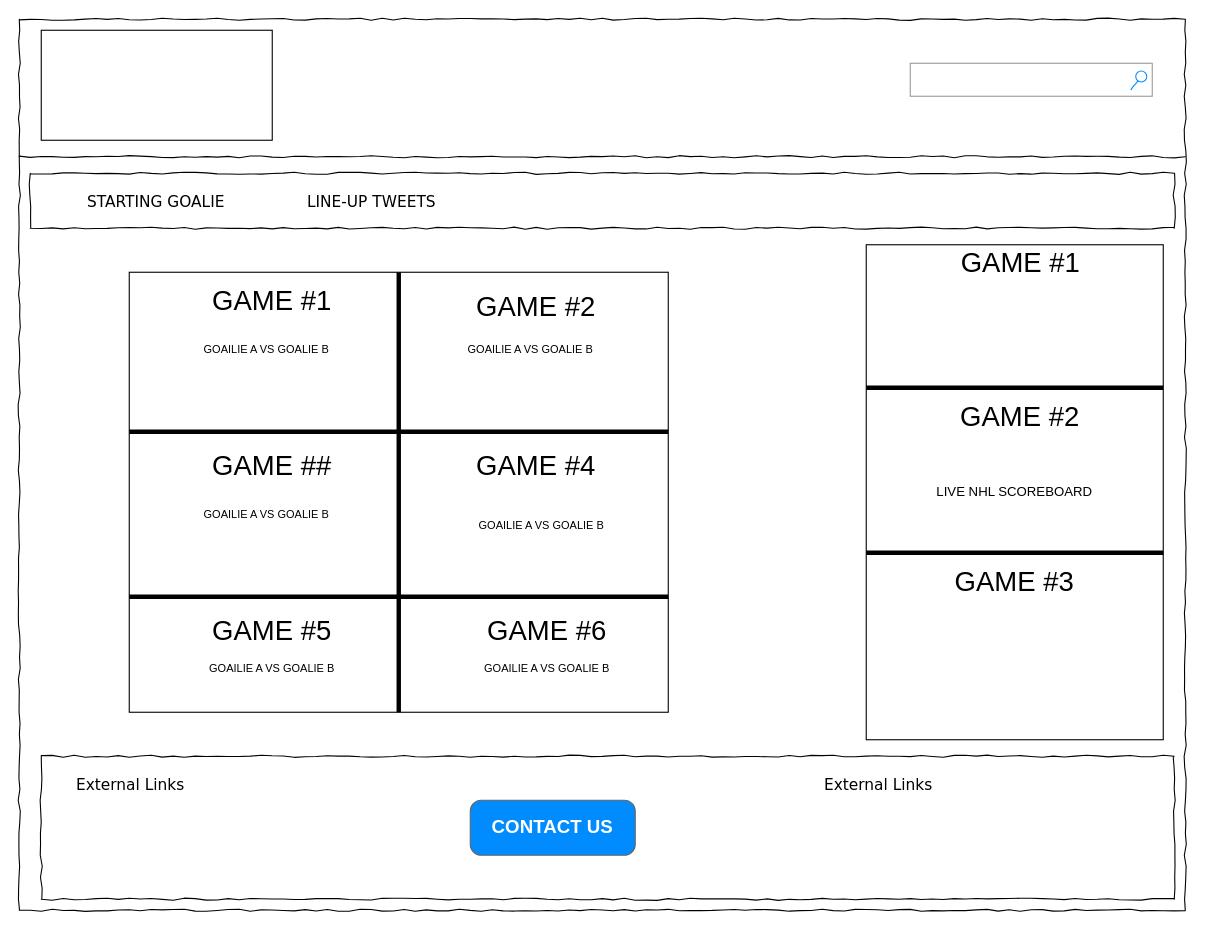
This 1205x930 diagram has some shape labels left out. The centre of each missing label's shape, as x and y in pixels:
"DAILY LINE-UP" goes at point (156, 84).
"Search" goes at point (1030, 79).
